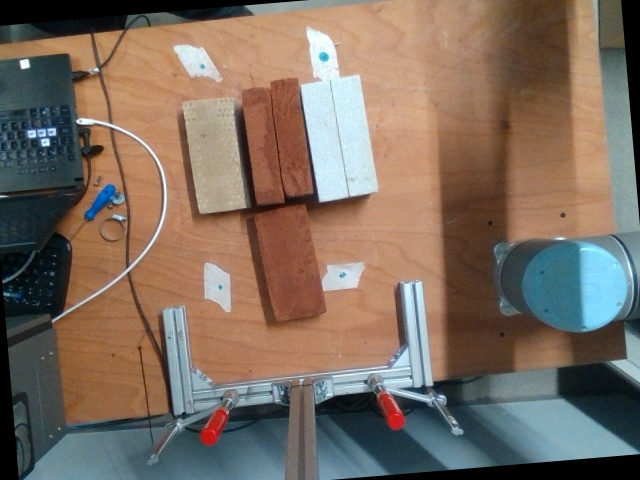brick: (253, 201, 323, 320), (182, 95, 245, 212)
brick-side: (299, 79, 349, 200), (328, 75, 378, 196), (269, 77, 312, 196), (241, 87, 283, 205)
